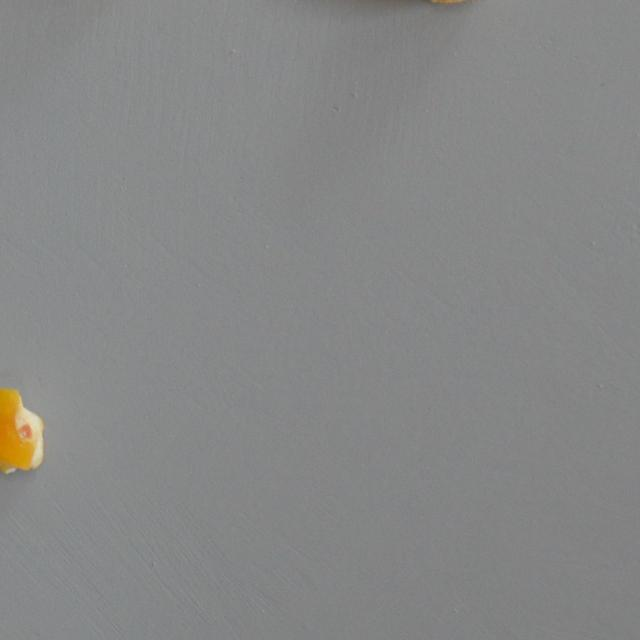dañado: (0, 382, 60, 478)
